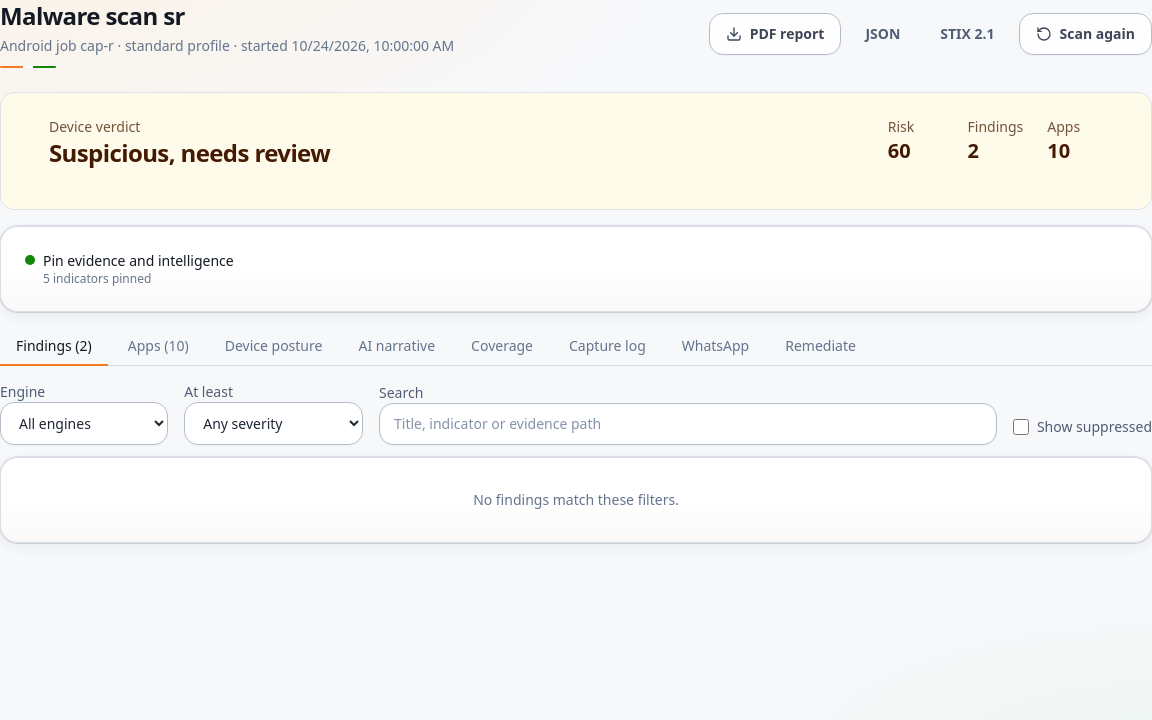
it: Remediate panel › warns when the helper cannot remove apps
The width and height of the screenshot is (1152, 720).
Click the tab "Remediate" at (820, 347), box 769,328 -> 872,366
(page scrolled)
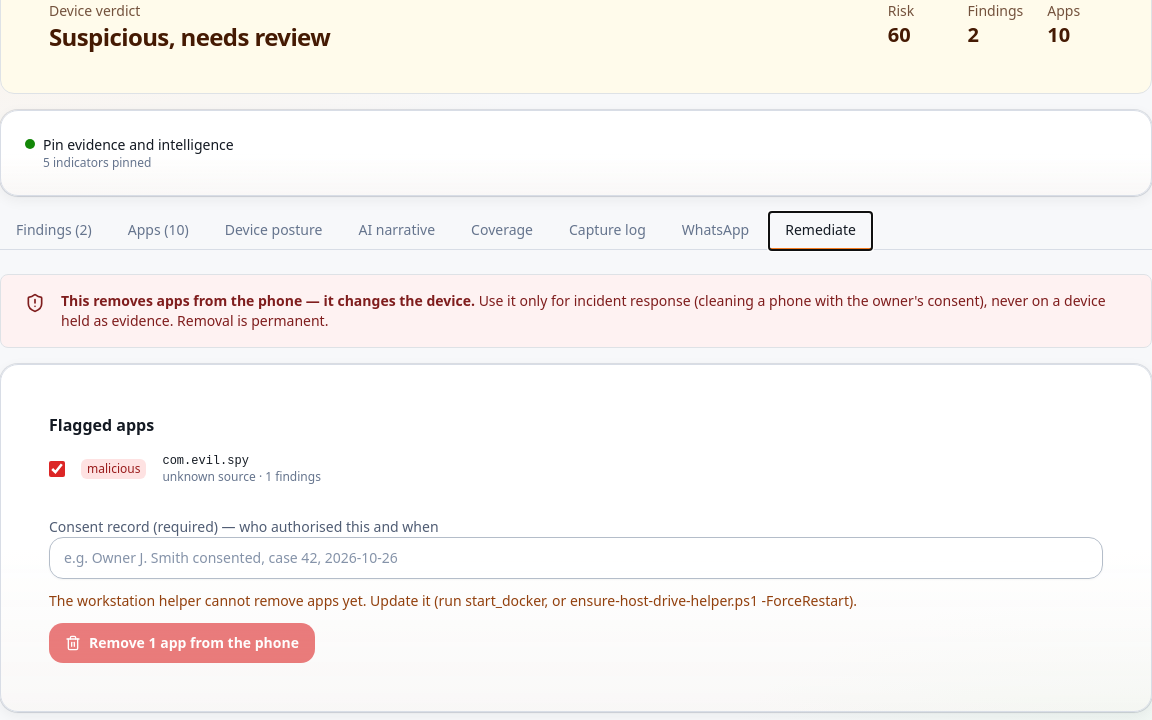
Check: the text "helper cannot remove apps yet" is shown, box 49,591 -> 857,610
